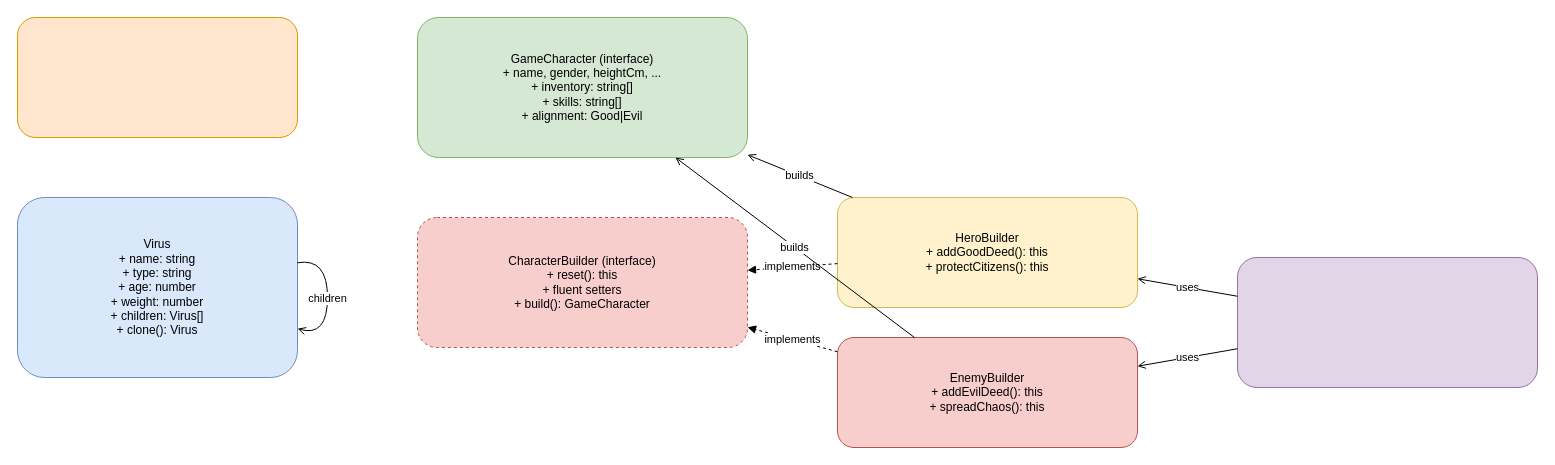
Image size: 1555x465. Some labels were removed from this diagram. Here are the shapes that lost their labels. From the top down, the centre of each, then its label:
At [157,77]: "Authenticator + getInstance(): Authenticator - constructor(token)".
At [1387,322]: "CharacterDirector + createDreamHero() + createMostDangerousEnemy()".
